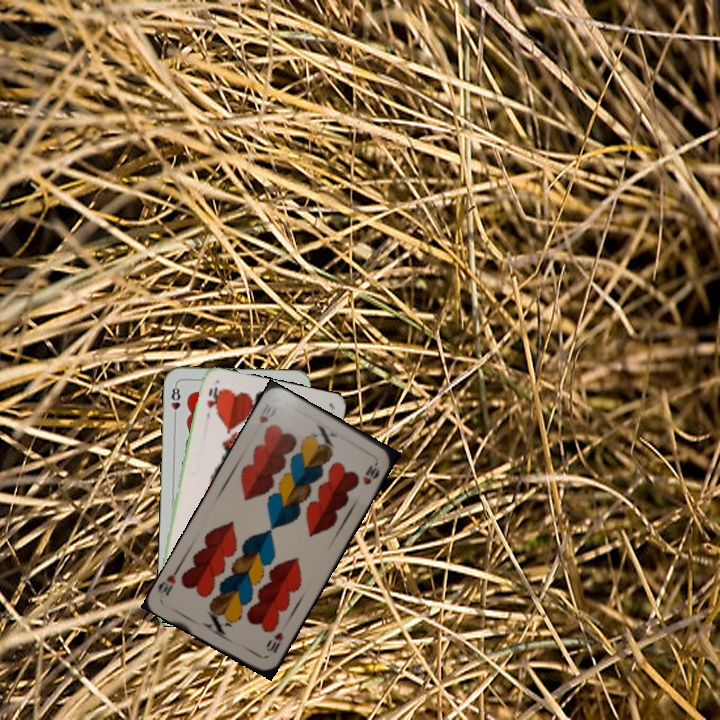H10: (262, 628, 286, 656), (255, 400, 274, 426)
H8: (167, 381, 183, 421)
HO: (202, 383, 222, 421)
